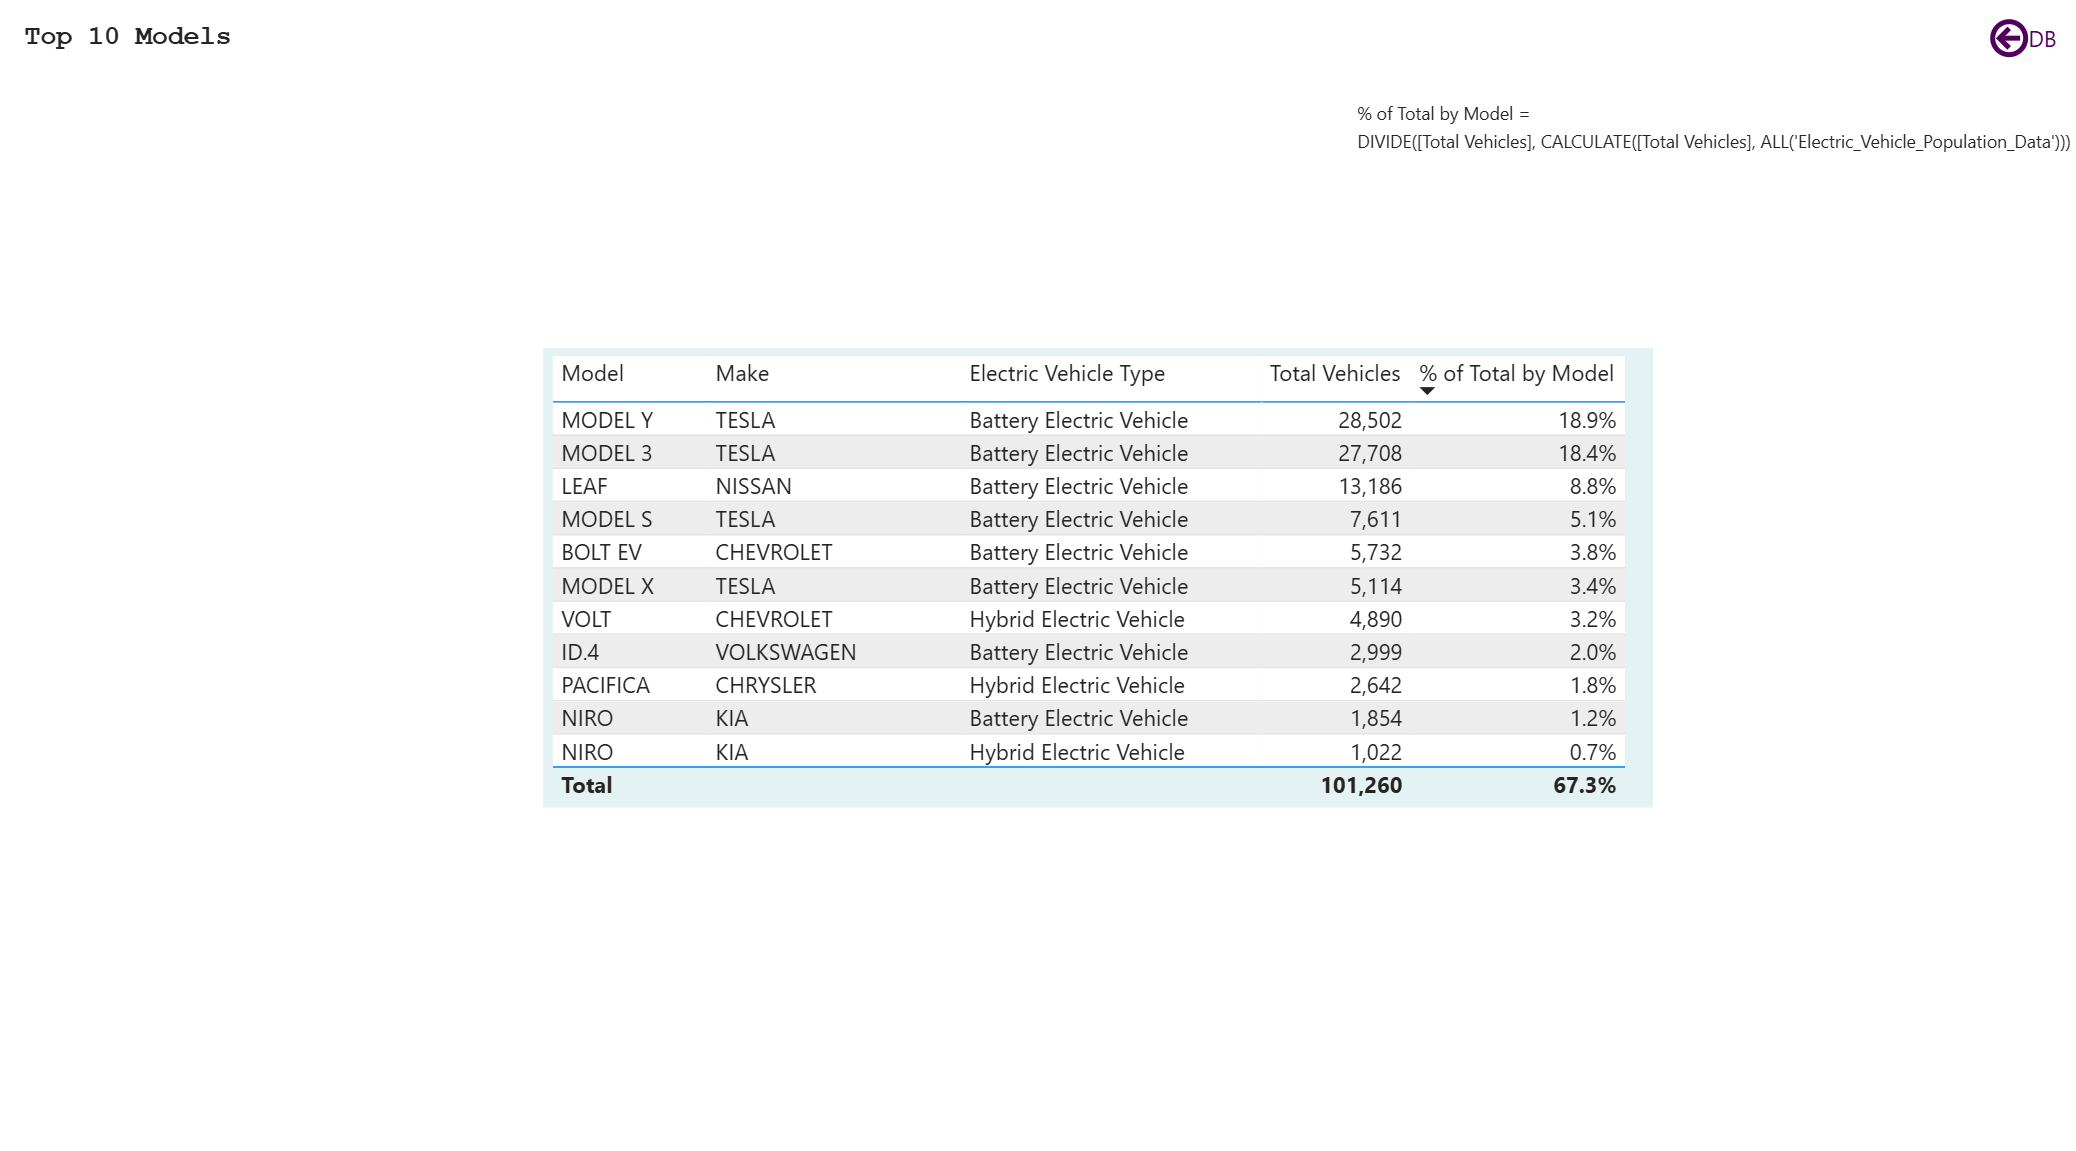

What the dashboard file says about the page in this screenshot:
{"tool":"powerbi","page":{"name":"Top 10 Models","canvas":[1280,720],"ordinal":5},"visuals":[{"type":"tableEx","fields":{"Values":["Electric_Vehicle_Population_Data.Model","Electric_Vehicle_Population_Data.Make","Electric_Vehicle_Population_Data.Electric Vehicle Type","Electric_Vehicle_Population_Data.Total Vehicles","Electric_Vehicle_Population_Data.% of Total by Model"]},"box":[347,221.4,668.8,277.1],"z":0},{"type":"actionButton","box":[1214.6,18.5,48.5,31.5],"z":1000},{"type":"textbox","box":[29.3,18.7,652.7,71.3],"z":2000},{"type":"textbox","box":[833.1,64.6,446.9,67.7],"z":3000}]}

Visuals, with their boxes in screenshot pixels (x1, y1, x2, y2), scaled from the page's 1280x720 canvas onto the 2076x1151 screenshot:
tableEx - Electric_Vehicle_Population_Data.Model x Electric_Vehicle_Population_Data.Make: x1=563 y1=354 x2=1648 y2=797
actionButton: x1=1970 y1=30 x2=2049 y2=80
textbox: x1=48 y1=30 x2=1106 y2=144
textbox: x1=1351 y1=103 x2=2075 y2=211
